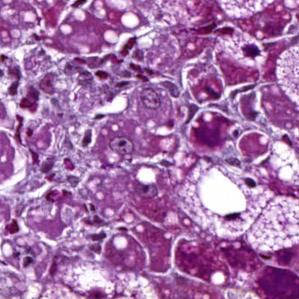ballooning: (174, 160, 275, 242), (222, 30, 270, 77)
